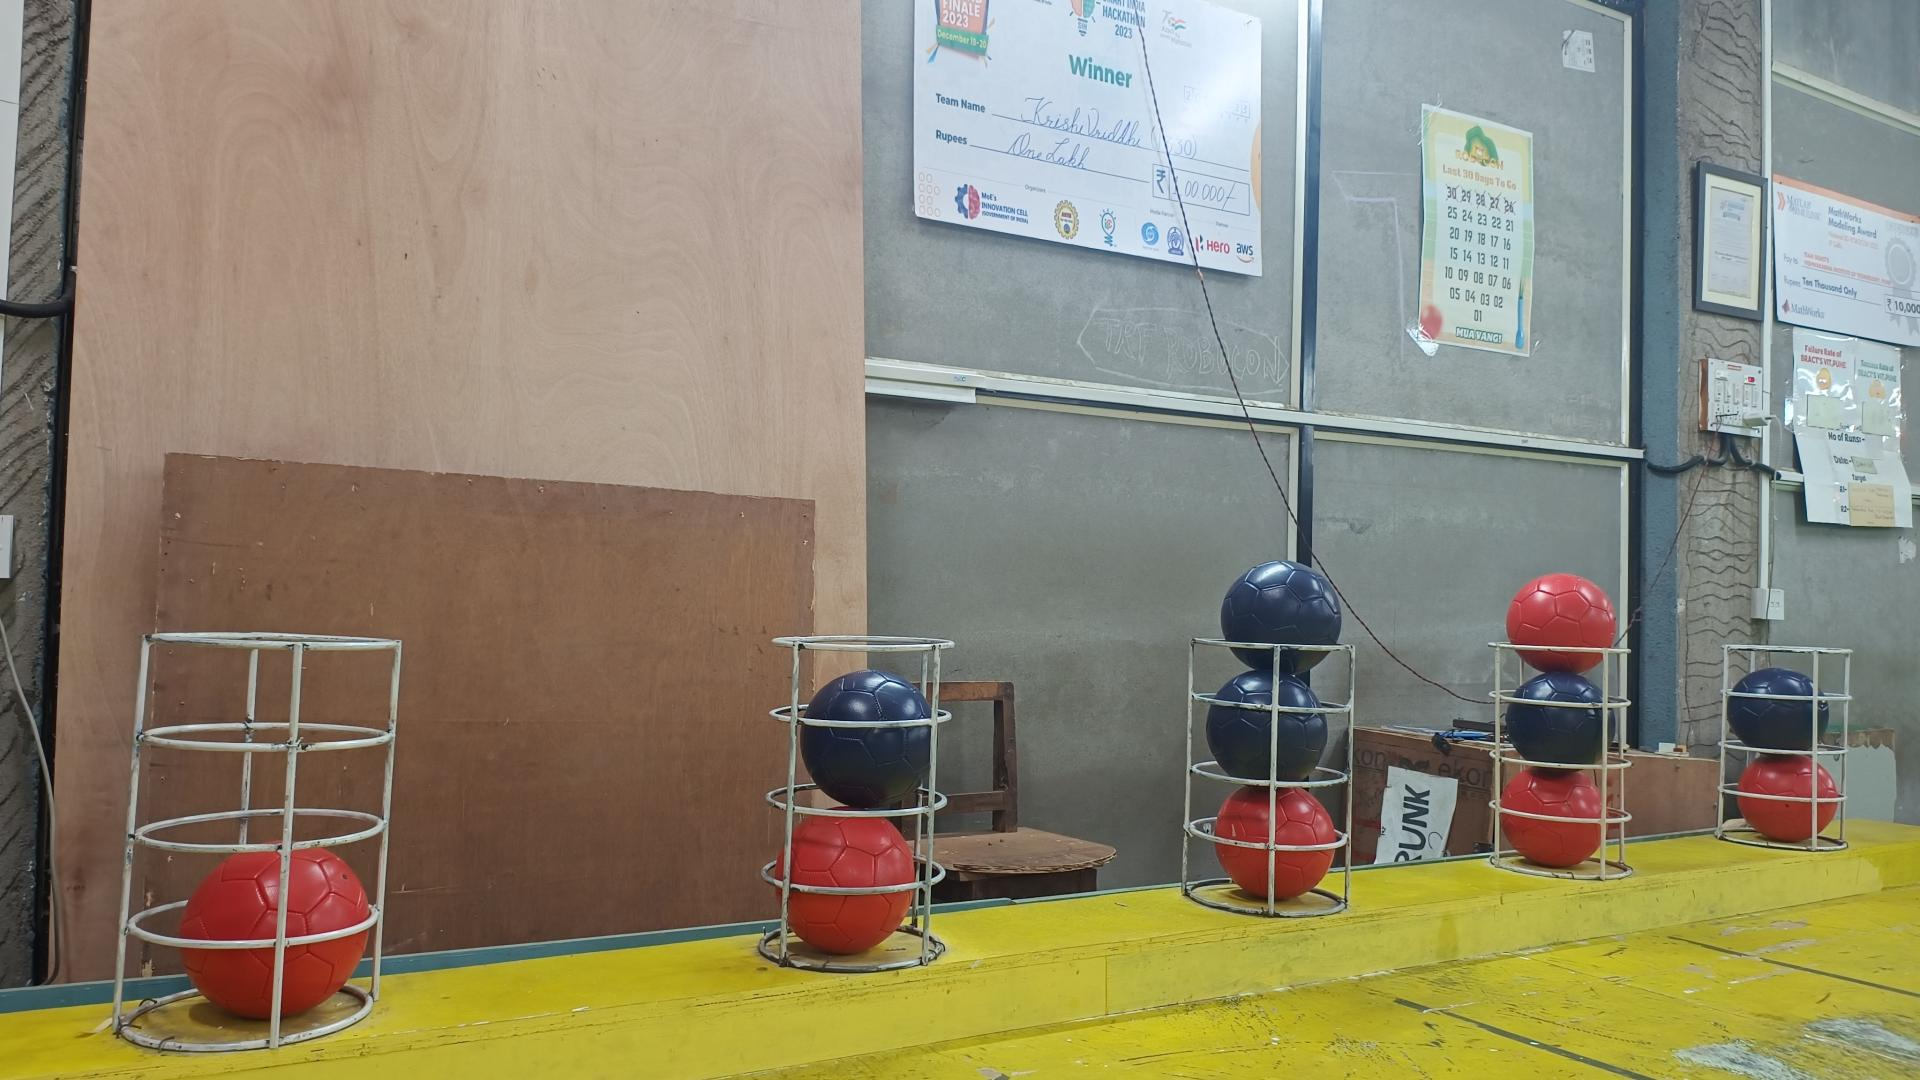dhoka: (800, 671, 932, 810), (1220, 559, 1340, 675), (1205, 670, 1329, 782), (1502, 671, 1615, 769), (1729, 670, 1829, 752)
laale: (175, 852, 371, 1025), (767, 815, 918, 955), (1212, 783, 1336, 899), (1501, 770, 1606, 872), (1505, 574, 1614, 671), (1735, 756, 1841, 841)
